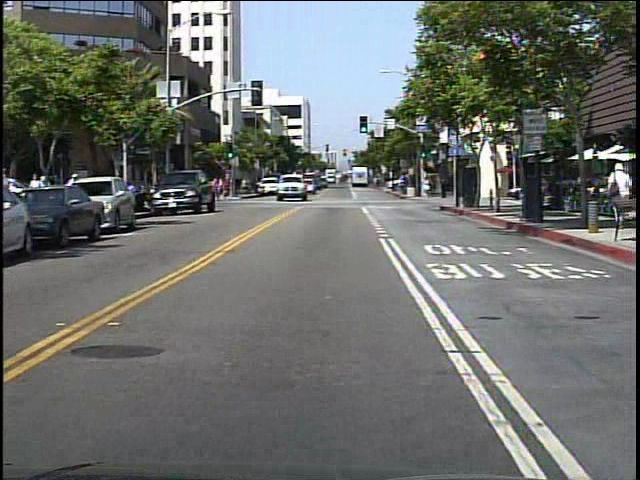person: (601, 158, 634, 226), (214, 175, 226, 204), (421, 177, 432, 200)
